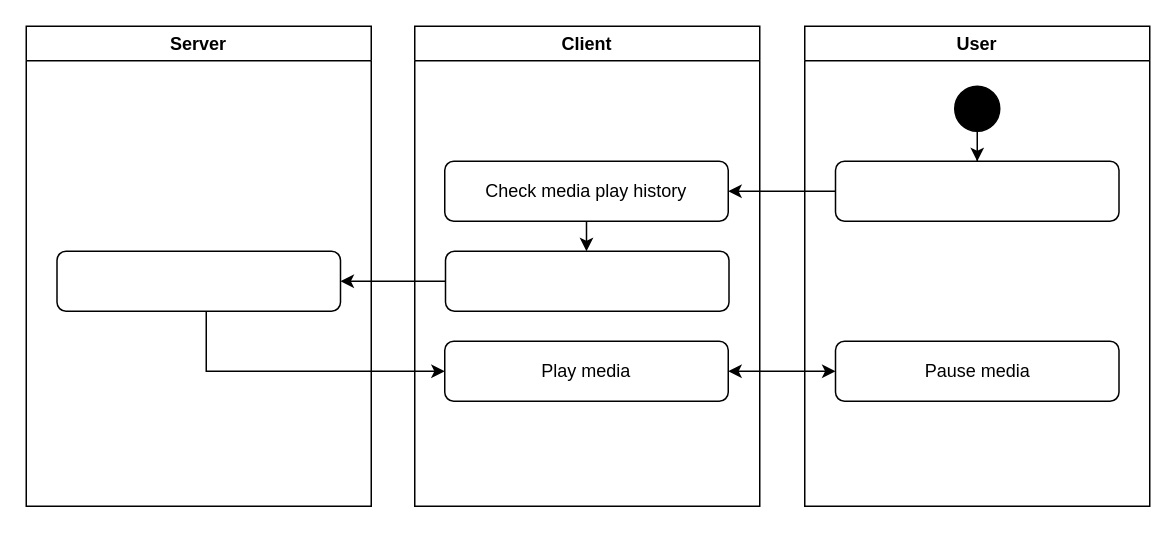
This 1176x533 diagram has some shape labels left out. Each missing label, with the box of its shape:
Provide .ts files: (56, 250, 340, 311)
Request .ts files: (444, 250, 729, 311)
Request media play: (834, 160, 1119, 221)
